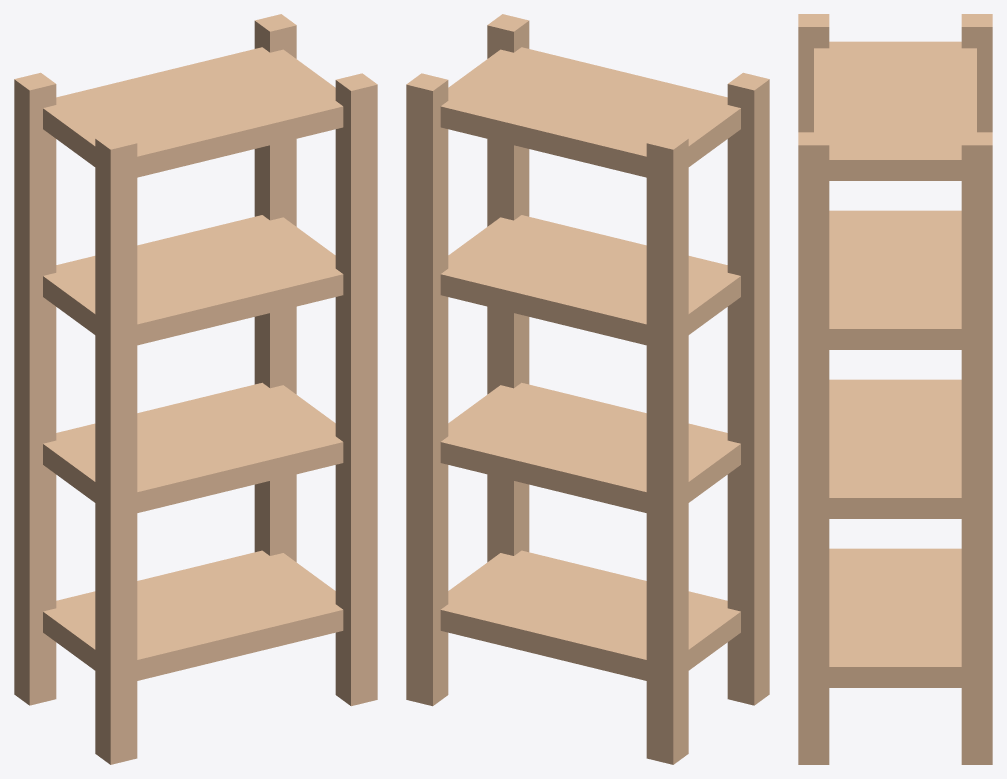
The model's file is bookcaseOpen.glb.
The picture shows the model from 3 angles, left to right: view 1: azimuth 30°, elevation 25°; view 2: azimuth 150°, elevation 25°; view 3: azimuth 270°, elevation 25°; orthographic projection.
Visible parts, largest first — view 1: bookcaseOpen(Clone); view 2: bookcaseOpen(Clone); view 3: bookcaseOpen(Clone).
Part boxes in pixels (x1,y1,x2,y2): bookcaseOpen(Clone): [14, 14, 377, 764]; bookcaseOpen(Clone): [406, 14, 769, 764]; bookcaseOpen(Clone): [798, 14, 992, 764].
Bounding box in the file's own units: 0.4 × 0.88 × 0.25.
